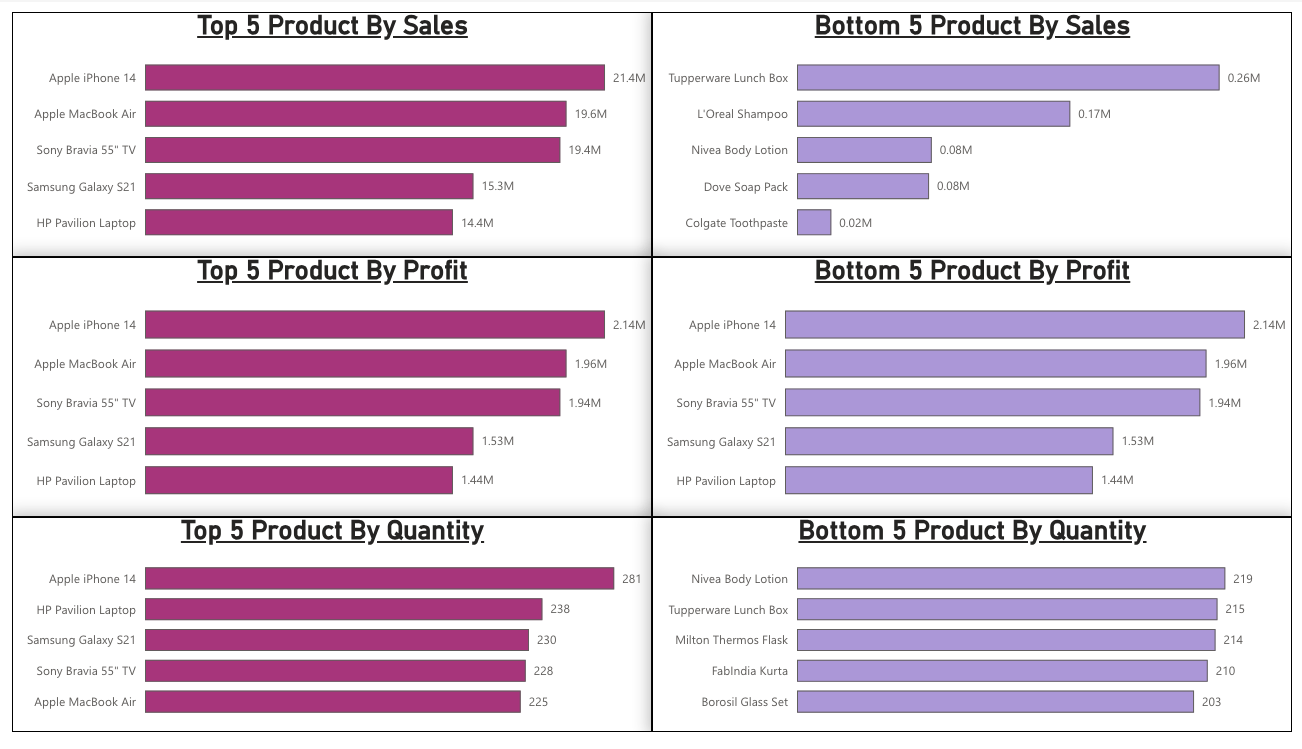

The page's visual inventory and layout, read from the dashboard file:
{"tool":"powerbi","page":{"name":"Top/Bottom 5 ","canvas":[1280,720],"ordinal":1},"visuals":[{"type":"barChart","title":"Top 5 Product By Sales","fields":{"Category":["Dim Product.Product Name"],"Y":["Sum(Fact Table.Net Sales)"]},"box":[0,63.6,639.5,227.4],"z":0},{"type":"barChart","title":"Bottom 5 Product By Sales","fields":{"Category":["Dim Product.Product Name"],"Y":["Sum(Fact Table.Net Sales)"]},"box":[639.5,63.6,640.8,227.4],"z":1000},{"type":"barChart","title":"Top 5 Product By Profit","fields":{"Category":["Dim Product.Product Name"],"Y":["Sum(Fact Table.Profit)"]},"box":[0,291,639.5,228.7],"z":2000},{"type":"barChart","title":"Bottom 5 Product By Profit","fields":{"Category":["Dim Product.Product Name"],"Y":["Sum(Fact Table.Profit)"]},"box":[639.5,291,640.8,228.7],"z":3000},{"type":"barChart","title":"Top 5 Product By Quantity ","fields":{"Category":["Dim Product.Product Name"],"Y":["Sum(Fact Table.Units Sold)"]},"box":[0,519.7,639.5,200.5],"z":4000},{"type":"barChart","title":"Bottom 5 Product By Quantity ","fields":{"Category":["Dim Product.Product Name"],"Y":["Sum(Fact Table.Units Sold)"]},"box":[639.5,519.7,640.8,200.5],"z":5000},{"type":"shape","box":[0,0,1280.3,63.6],"z":6000}]}

Visuals, with their boxes in screenshot pixels (x1, y1, x2, y2), scaled from the page's 1280x720 canvas onto the 1302x749 screenshot:
"Top 5 Product By Sales" barChart: [0, 66, 650, 303]
"Bottom 5 Product By Sales" barChart: [650, 66, 1301, 303]
"Top 5 Product By Profit" barChart: [0, 303, 650, 541]
"Bottom 5 Product By Profit" barChart: [650, 303, 1301, 541]
"Top 5 Product By Quantity " barChart: [0, 541, 650, 748]
"Bottom 5 Product By Quantity " barChart: [650, 541, 1301, 748]
shape: [0, 0, 1301, 66]
